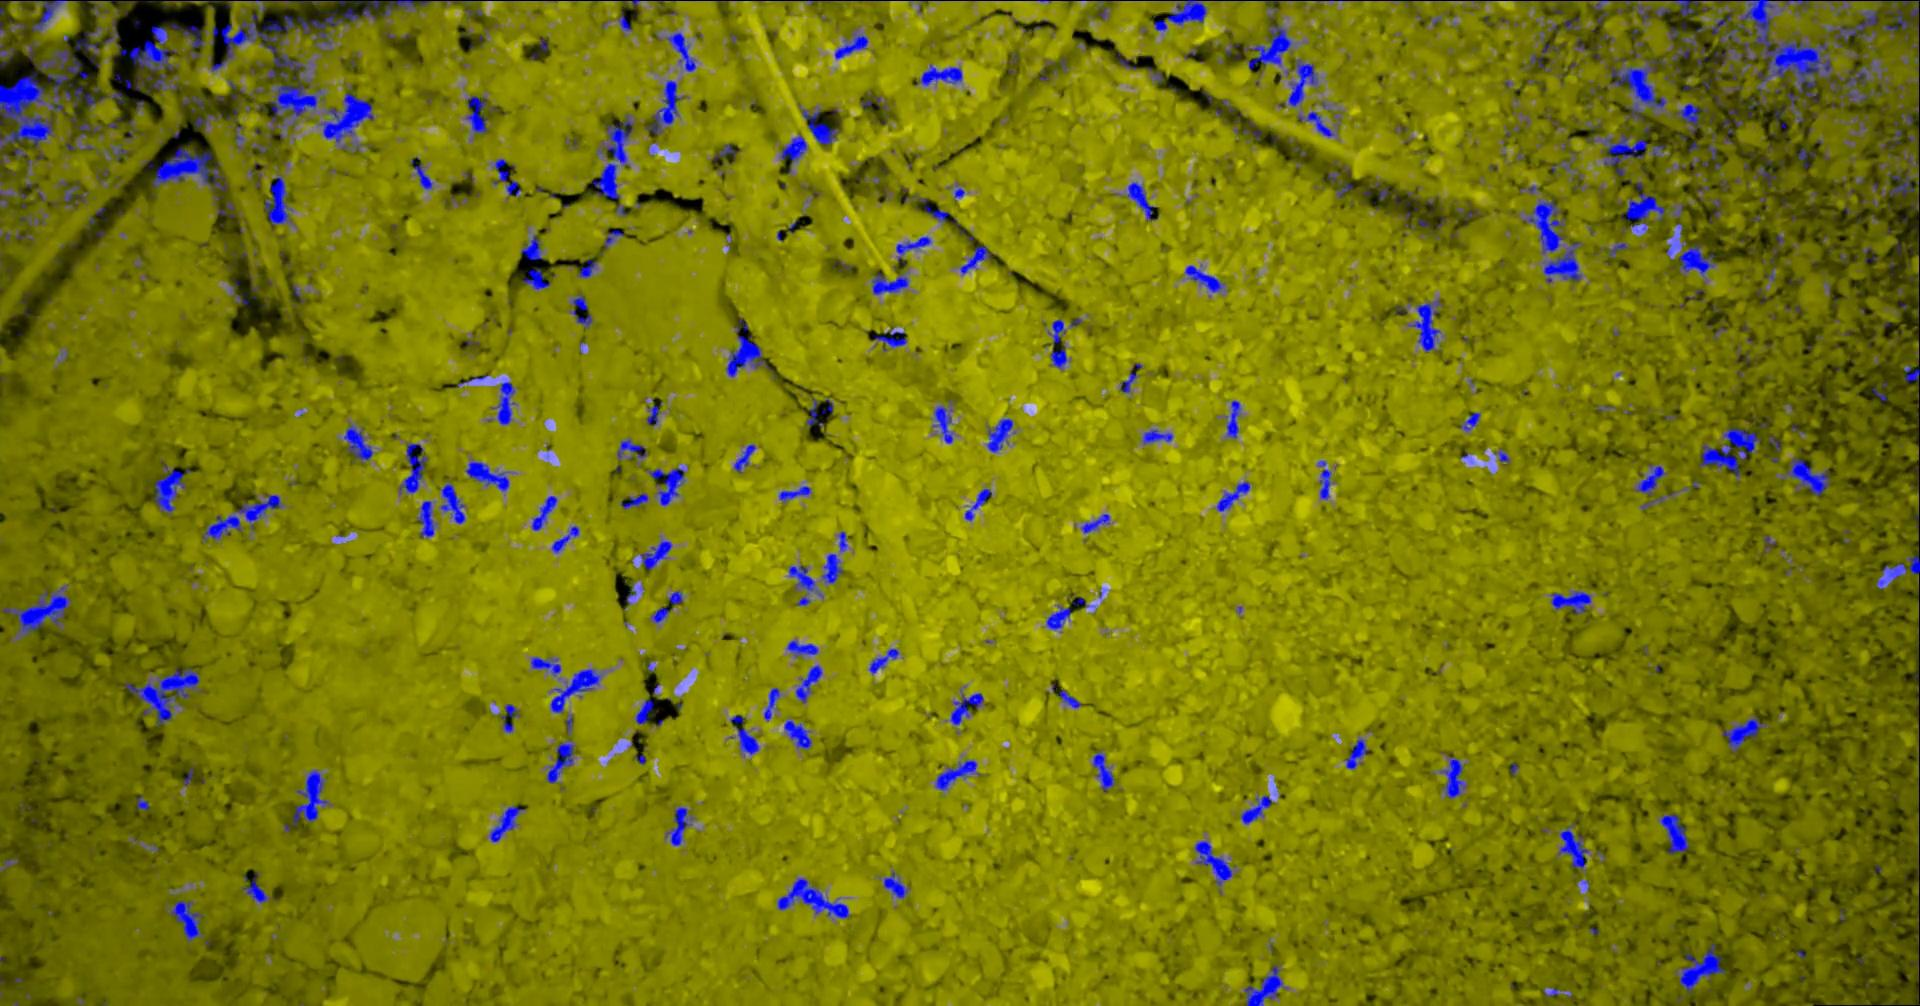ant: (1868, 0, 1919, 95), (725, 318, 771, 376), (1523, 197, 1566, 253), (1677, 942, 1724, 993), (550, 668, 602, 713), (1194, 840, 1236, 894), (1243, 22, 1291, 69), (1879, 152, 1919, 210), (644, 79, 684, 133), (1620, 180, 1663, 231), (1599, 133, 1667, 165), (152, 459, 190, 513), (1779, 456, 1829, 498), (292, 768, 328, 826), (194, 107, 243, 149), (1277, 58, 1317, 107), (1407, 298, 1443, 352), (1592, 0, 1669, 24), (1721, 716, 1768, 752), (797, 104, 839, 144), (1542, 241, 1581, 283), (1243, 963, 1283, 1005), (263, 174, 292, 230), (1153, 0, 1206, 30), (164, 901, 203, 941), (397, 442, 427, 493), (1876, 555, 1919, 589), (18, 0, 66, 30), (1879, 107, 1912, 151), (465, 459, 509, 492), (646, 467, 684, 506), (1557, 823, 1589, 868), (1523, 30, 1559, 69), (935, 760, 979, 790), (789, 565, 823, 605), (902, 194, 949, 222), (169, 23, 204, 58), (489, 805, 524, 841), (545, 739, 574, 782), (1658, 813, 1689, 854), (950, 688, 984, 724), (465, 95, 497, 133), (1677, 244, 1716, 276), (730, 714, 759, 754), (1671, 34, 1708, 66), (664, 807, 695, 845), (665, 32, 695, 71), (1128, 180, 1157, 220), (343, 424, 372, 464), (1672, 102, 1707, 135), (1439, 756, 1465, 798), (491, 158, 521, 196), (439, 481, 465, 523), (1183, 265, 1223, 292), (650, 589, 682, 622), (895, 235, 931, 264), (795, 664, 822, 702), (241, 871, 273, 903), (985, 418, 1015, 452), (491, 381, 514, 424), (1549, 589, 1590, 614), (1636, 464, 1666, 495), (1217, 481, 1250, 511), (1239, 795, 1272, 824), (932, 399, 954, 443), (1297, 111, 1333, 136), (919, 64, 963, 85), (858, 91, 888, 123), (639, 540, 670, 569), (531, 495, 557, 530), (1092, 749, 1114, 791), (57, 180, 88, 210), (959, 245, 989, 274), (1550, 151, 1582, 179), (69, 111, 102, 137), (783, 719, 811, 749), (964, 488, 990, 520), (834, 33, 867, 58), (778, 133, 806, 163), (569, 292, 592, 328), (872, 326, 905, 351), (871, 272, 908, 293), (551, 525, 579, 553), (869, 648, 898, 674), (1345, 737, 1369, 768), (439, 0, 483, 17), (883, 871, 909, 898), (417, 500, 436, 537), (1369, 180, 1399, 203), (410, 158, 432, 189), (1327, 171, 1352, 198), (1639, 492, 1677, 509), (733, 443, 756, 473), (822, 553, 843, 583), (1317, 460, 1333, 499), (616, 438, 648, 459), (1045, 605, 1070, 629), (522, 268, 550, 290), (1224, 400, 1239, 438), (530, 655, 560, 674), (521, 234, 542, 260), (500, 702, 519, 732), (13, 147, 36, 171), (778, 485, 811, 502), (1081, 513, 1109, 532), (786, 640, 818, 657), (114, 72, 143, 90), (763, 687, 778, 720), (1672, 0, 1700, 18), (105, 144, 133, 161), (805, 398, 823, 426), (1752, 165, 1777, 185), (1142, 429, 1173, 445), (634, 699, 653, 724), (65, 133, 93, 150), (620, 493, 648, 509), (230, 279, 248, 305), (1048, 318, 1065, 343), (1119, 367, 1137, 392), (1058, 688, 1081, 708), (1782, 0, 1815, 13), (1049, 344, 1065, 370), (603, 229, 623, 249), (1459, 412, 1481, 431), (712, 144, 735, 161), (0, 230, 34, 241), (1796, 147, 1815, 168), (577, 258, 597, 277), (646, 401, 662, 426), (1116, 51, 1137, 69), (1702, 69, 1719, 89), (180, 95, 203, 111), (1096, 0, 1112, 19), (1722, 118, 1742, 133), (1608, 241, 1628, 257), (0, 180, 11, 207), (0, 42, 14, 64), (216, 201, 234, 217), (617, 11, 632, 30), (99, 91, 123, 103), (1224, 42, 1241, 58), (20, 213, 43, 225), (124, 119, 137, 140), (1903, 365, 1919, 381), (1562, 17, 1580, 30), (1707, 131, 1716, 159), (1709, 197, 1721, 218), (1763, 533, 1775, 553), (1495, 447, 1509, 464), (0, 857, 17, 871), (837, 530, 847, 551), (91, 3, 107, 17), (136, 795, 149, 810), (952, 183, 964, 199), (95, 166, 108, 180), (565, 714, 571, 734)
